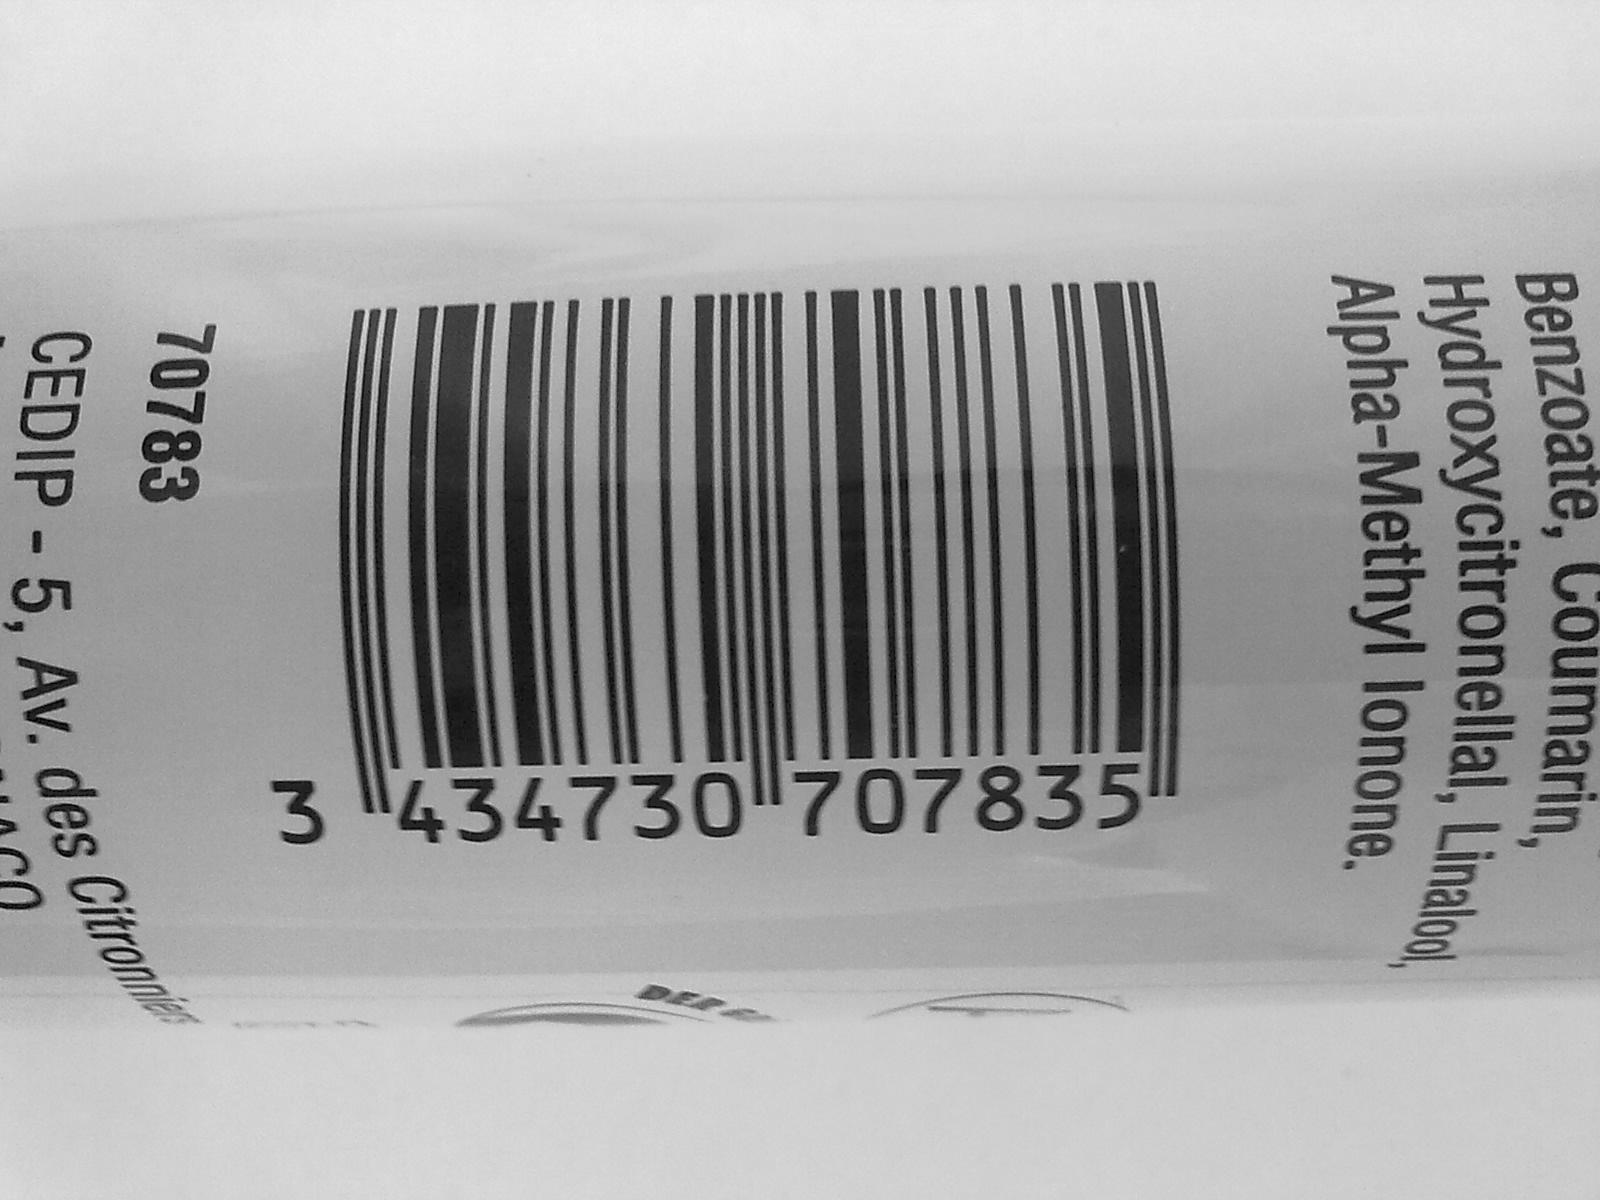Barcode: (336, 261, 1187, 760)
